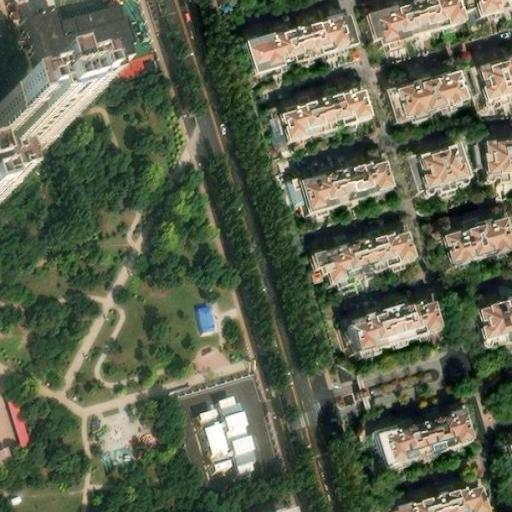building: (29, 0, 141, 74), (248, 11, 360, 75), (297, 151, 398, 216), (314, 230, 420, 290), (280, 83, 377, 147), (350, 294, 444, 354), (381, 408, 474, 466), (389, 68, 472, 122), (444, 216, 512, 267), (386, 483, 489, 512), (421, 142, 471, 194), (200, 403, 234, 465), (478, 297, 512, 347), (478, 56, 512, 104), (478, 137, 512, 185), (6, 390, 34, 444), (241, 494, 292, 511), (190, 299, 214, 333), (234, 428, 259, 457), (227, 404, 251, 433), (480, 0, 512, 14), (223, 390, 244, 410)
